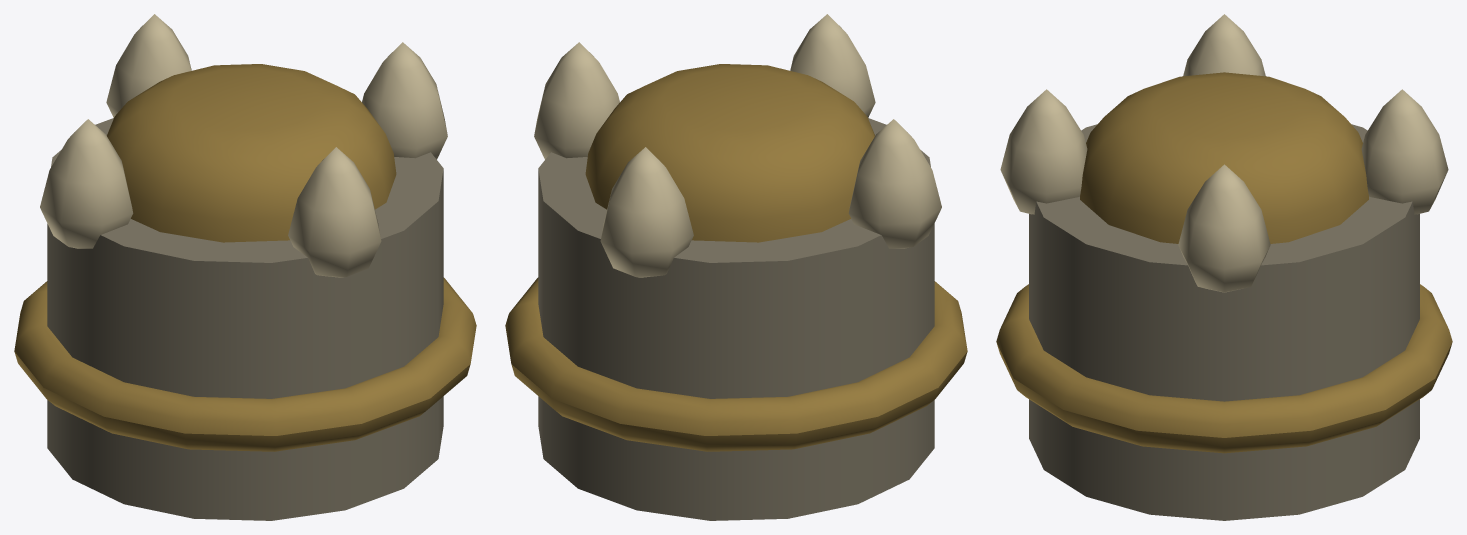
Rendered from dragon_mail.obj.
3 renders of one model, left to right at view 1: azimuth 30°, elevation 25°; view 2: azimuth 150°, elevation 25°; view 3: azimuth 270°, elevation 25°, orthographic. The views are drawn at different scales.
Parts seen in each view (by area): view 1: dragon_mail; view 2: dragon_mail; view 3: dragon_mail.
Part boxes in pixels (x1=…): dragon_mail: x1=14, y1=14, x2=476, y2=520; dragon_mail: x1=505, y1=14, x2=967, y2=520; dragon_mail: x1=996, y1=14, x2=1452, y2=520.
Bounding box in the file's own units: 1.54 × 1.3 × 1.54.
